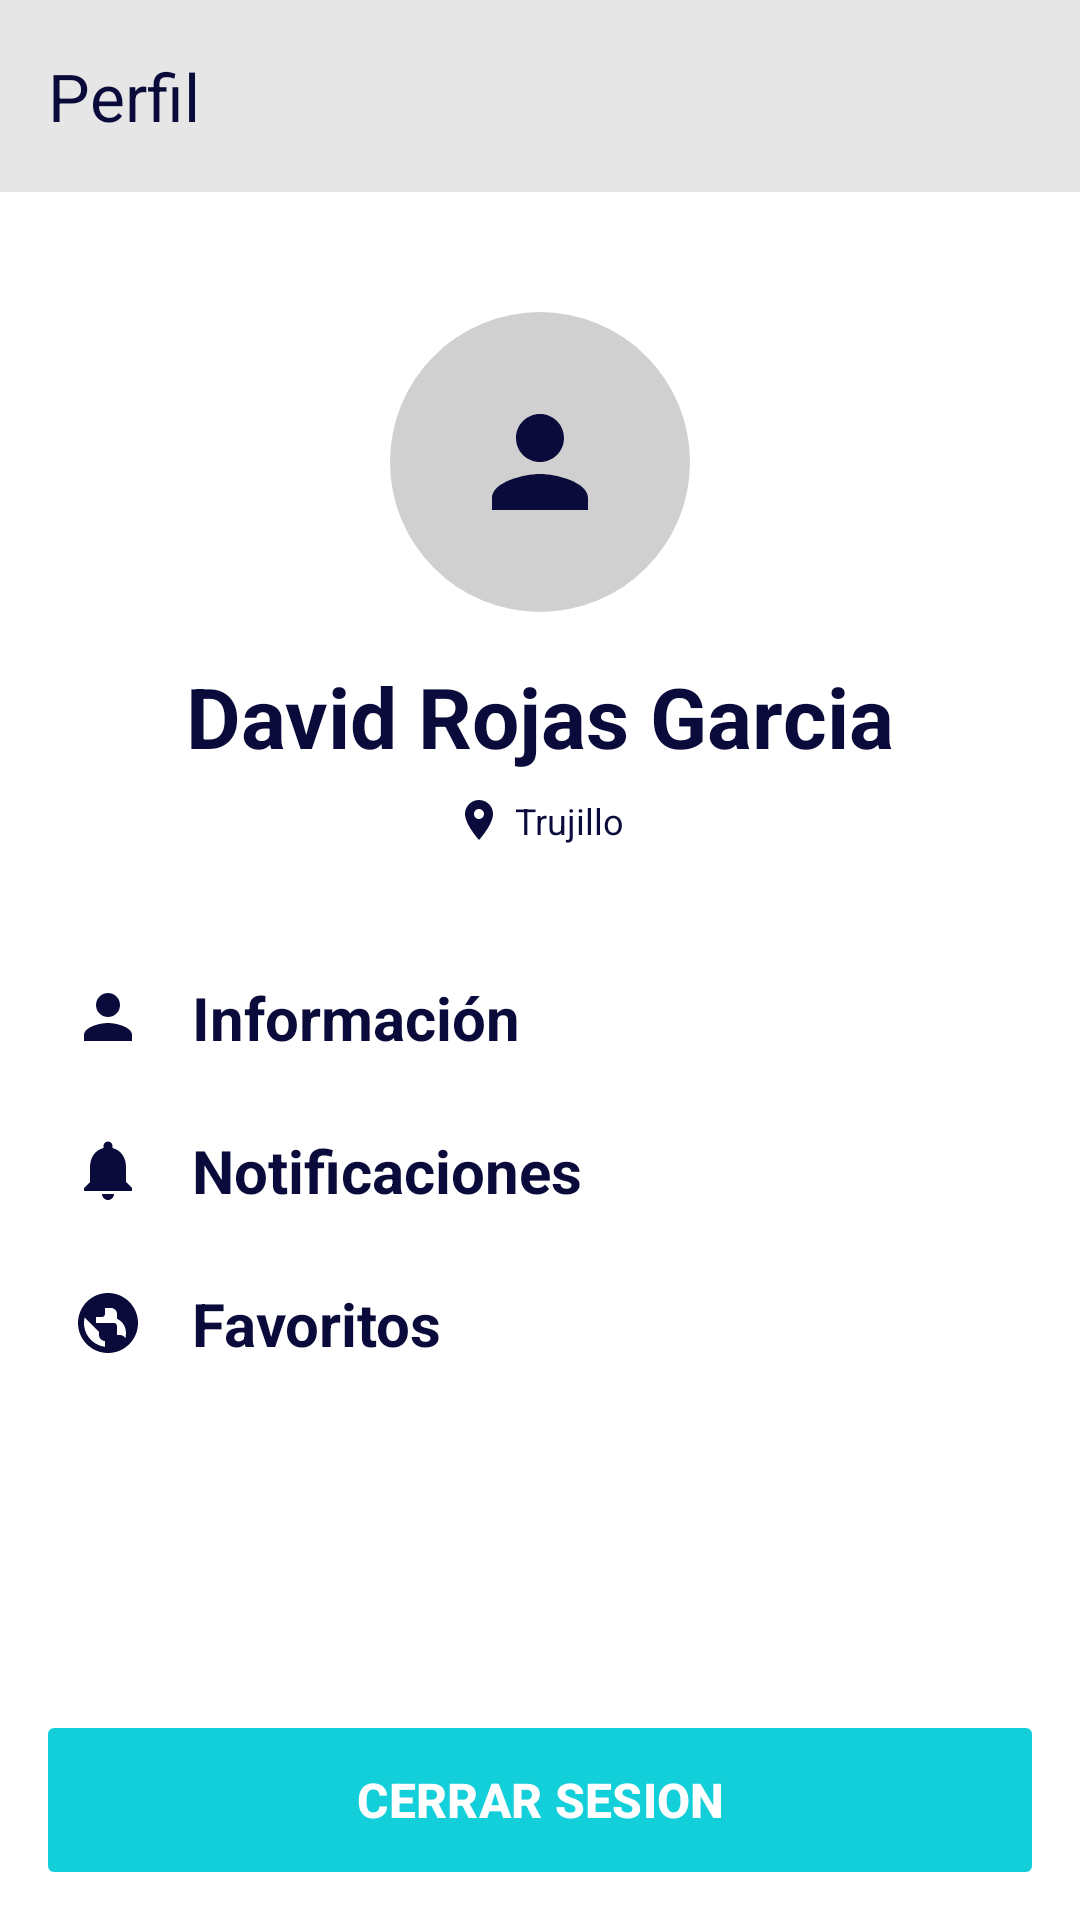

Icons on this 1080px x 1920px Android screen, each with its box as (x1, y1, x2, y2):
location: (465, 800, 493, 840)
notifications: (84, 1141, 132, 1200)
